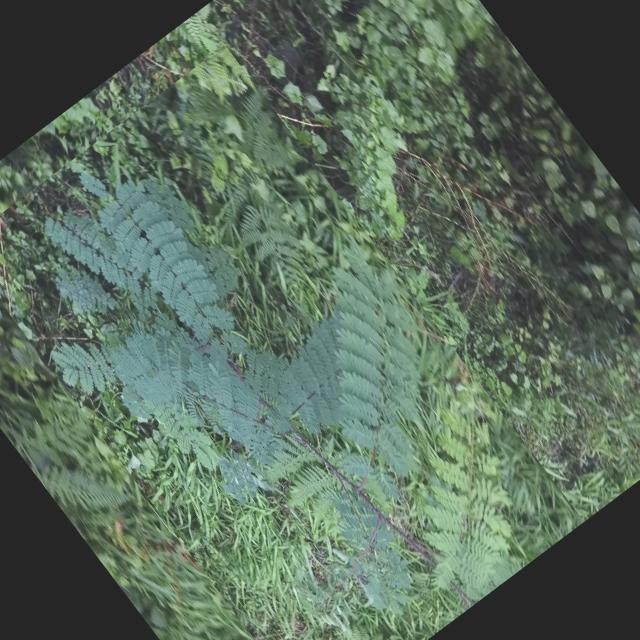Mysore-Thorn-Weed: (0, 44, 584, 640)
